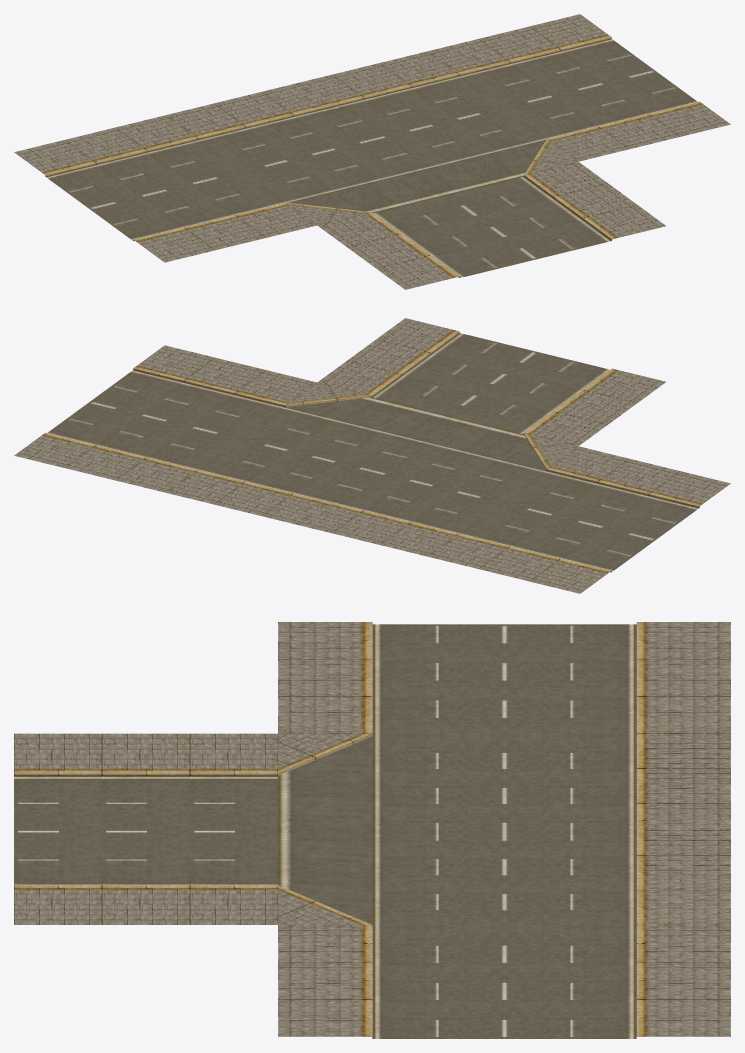
The model's file is Road2_Part_08_A.fbx.
3 renders of one model, top to bottom at view 1: azimuth 30°, elevation 25°; view 2: azimuth 150°, elevation 25°; view 3: azimuth 270°, elevation 25°, orthographic. The views are drawn at different scales.
Visible parts, largest first — view 1: Road_Part_13; view 2: Road_Part_13; view 3: Road_Part_13.
Boxes of the visible parts, bbox=[...] form: Road_Part_13: bbox=[14, 14, 730, 289]; Road_Part_13: bbox=[14, 318, 730, 593]; Road_Part_13: bbox=[14, 622, 730, 1038].
Size of the model in its own units: 5200 by 13.63 by 3800.
